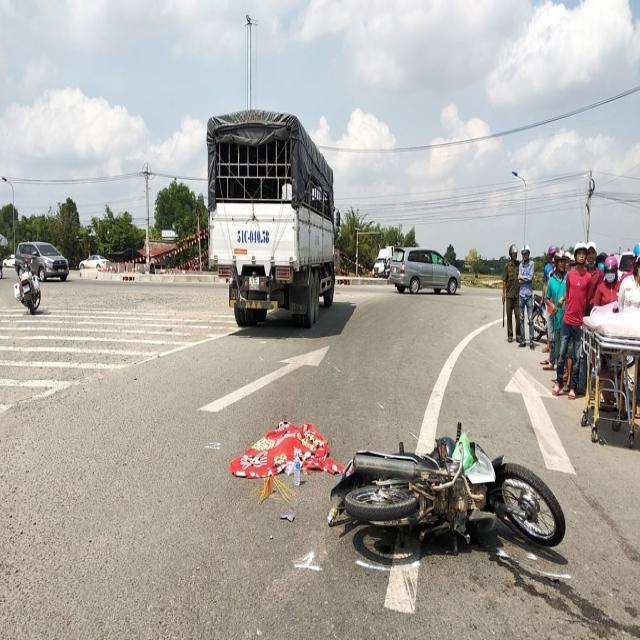accident: (303, 389, 579, 589)
